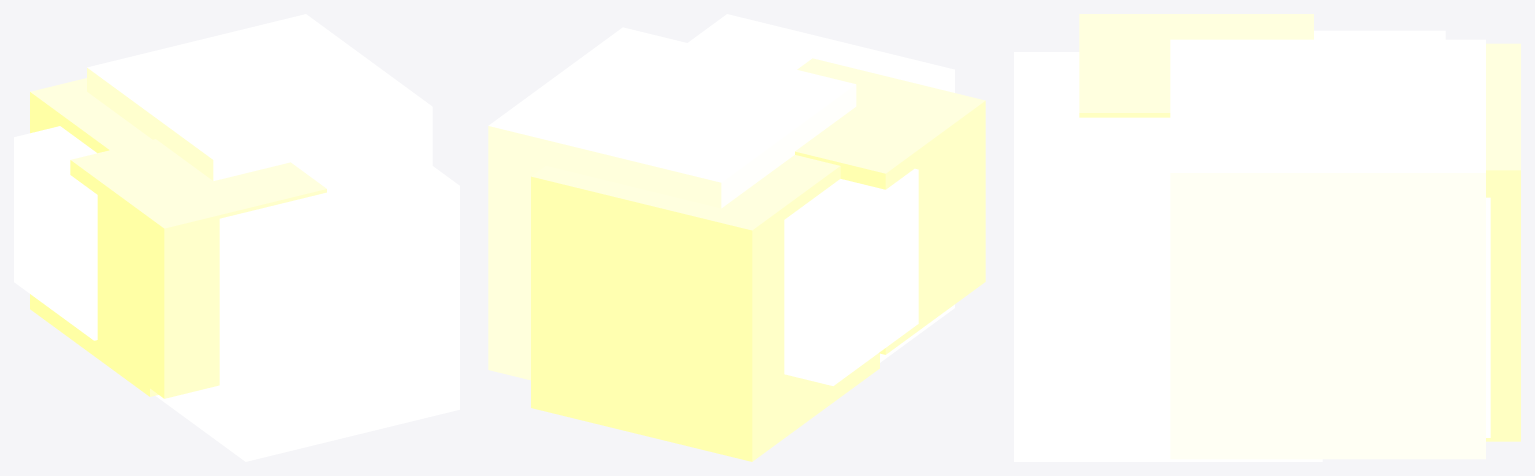
The model's file is hit-bullet.glb.
3 renders of one model, left to right at view 1: azimuth 30°, elevation 25°; view 2: azimuth 150°, elevation 25°; view 3: azimuth 270°, elevation 25°, orthographic. The views are drawn at different scales.
Parts seen in each view (by area): view 1: cube_04, cube_06, cube_05, cube_01, cube_02; view 2: cube_02, cube_06, cube_05, cube_01, cube_04; view 3: cube_06, cube_04, cube_05, cube_02, cube_01, cube_07.
Boxes of the visible parts, x1=… form: cube_04: x1=155, y1=140, x2=459, y2=461; cube_06: x1=87, y1=14, x2=432, y2=180; cube_05: x1=70, y1=139, x2=326, y2=398; cube_01: x1=14, y1=126, x2=97, y2=340; cube_02: x1=30, y1=78, x2=158, y2=396; cube_02: x1=531, y1=155, x2=879, y2=461; cube_06: x1=488, y1=27, x2=856, y2=380; cube_05: x1=795, y1=58, x2=985, y2=354; cube_01: x1=784, y1=168, x2=918, y2=385; cube_04: x1=688, y1=14, x2=954, y2=362; cube_06: x1=1170, y1=39, x2=1485, y2=459; cube_04: x1=1014, y1=52, x2=1322, y2=461; cube_05: x1=1079, y1=14, x2=1313, y2=117; cube_02: x1=1486, y1=43, x2=1520, y2=441; cube_01: x1=1314, y1=30, x2=1445, y2=39; cube_07: x1=1486, y1=197, x2=1490, y2=437.
Bounding box in the file's own units: 0.1867 × 0.144 × 0.2132.
